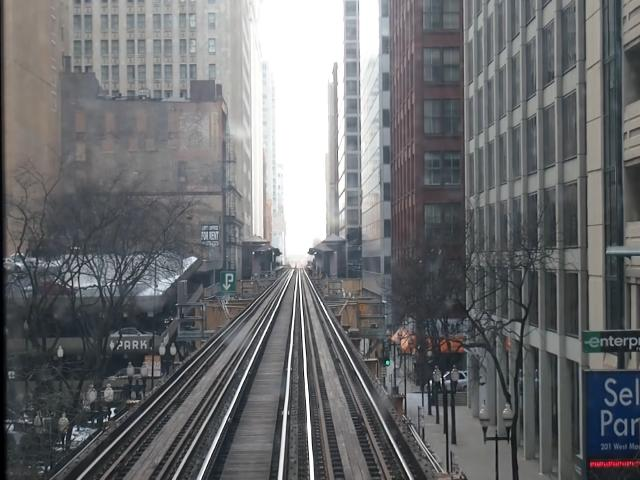signal light: (382, 354, 394, 372)
